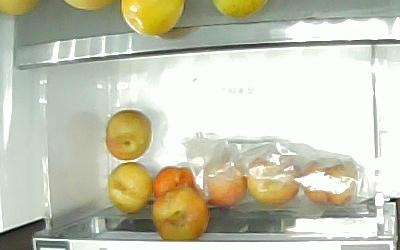prune_vinyl: (150, 186, 209, 240), (245, 154, 301, 205), (300, 157, 357, 205), (198, 155, 247, 207), (104, 108, 152, 160), (106, 161, 152, 212), (151, 165, 197, 200)
